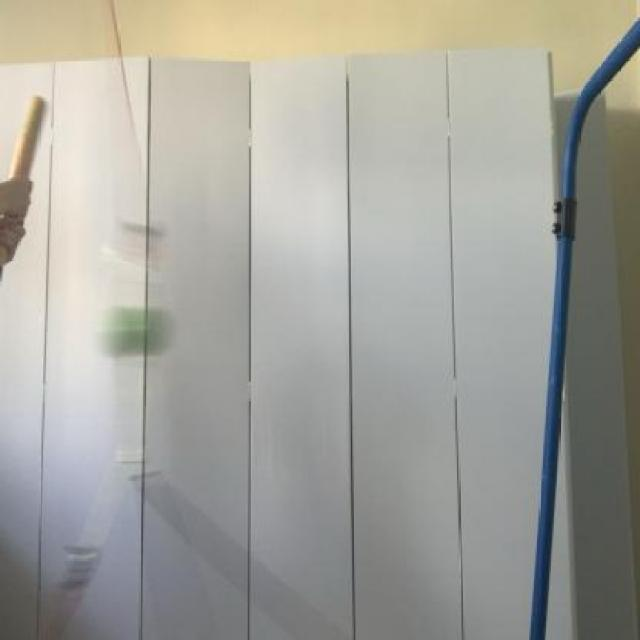baseball: (99, 300, 181, 366)
